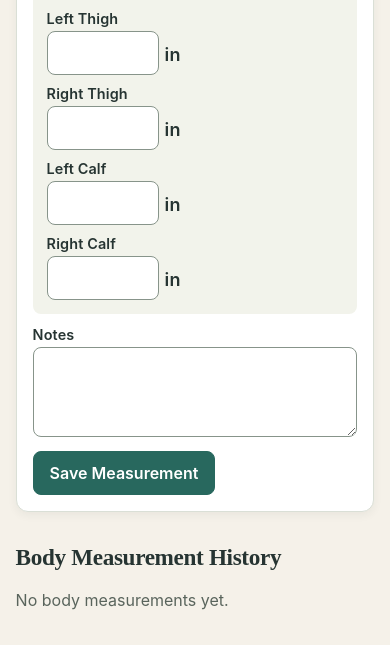
Test: rejects notes-only and invalid values
The width and height of the screenshot is (390, 645).
(page scrolled)
In the text box labelled "Notes": (195, 392) [33,347,357,437], type "Just a note"
Click the button "Save Measurement": (124, 473) [33,451,215,495]
(page scrolled)
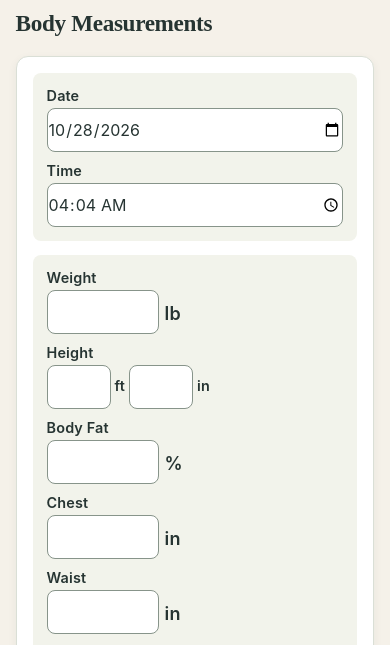
In the number field labelled "Weight": (103, 312) [47,290,159,334], type "-2"
(page scrolled)
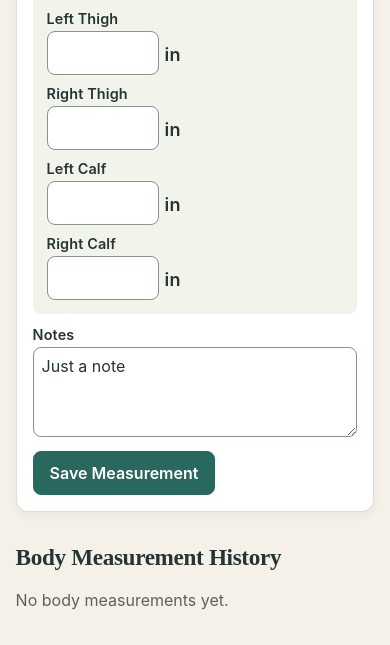
Click the button "Save Measurement": (124, 473) [33,451,215,495]
(page scrolled)
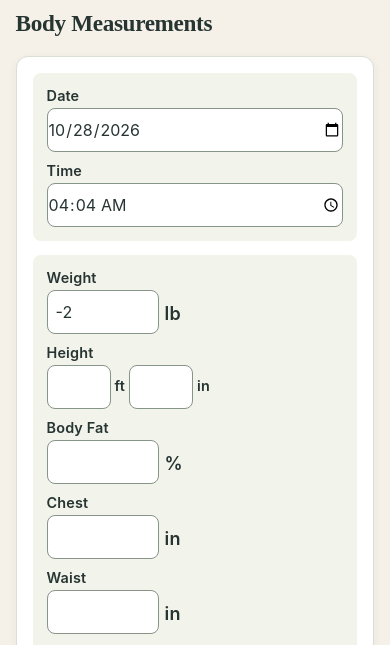
Clear the number field labelled "Weight": (103, 312) [47,290,159,334]
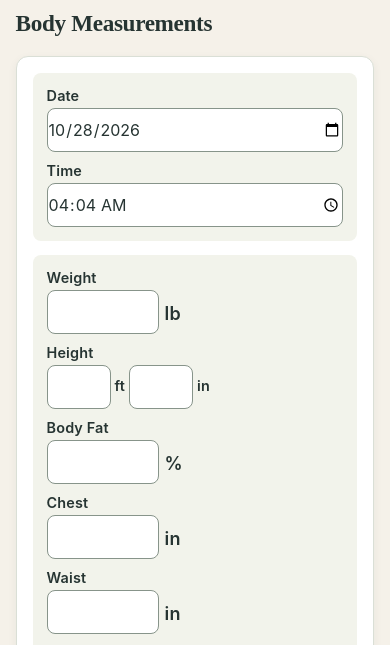
In the number field labelled "Body Fat": (103, 462) [47,440,159,484], type "101"
(page scrolled)
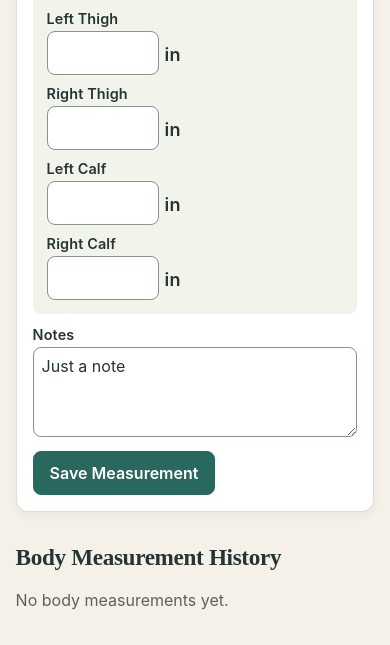
Click the button "Save Measurement": (124, 473) [33,451,215,495]
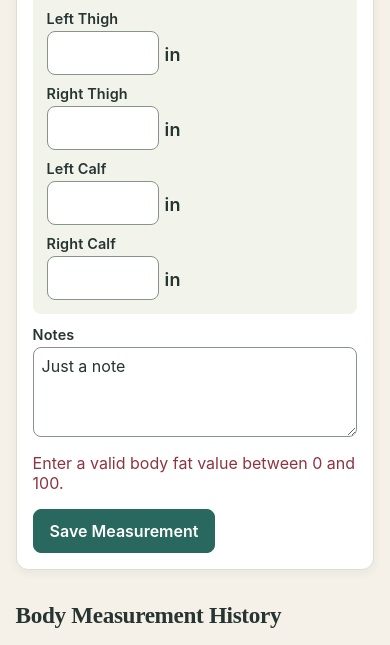
Expected: the message shows "between 0 and 100", [33,453,355,493]
